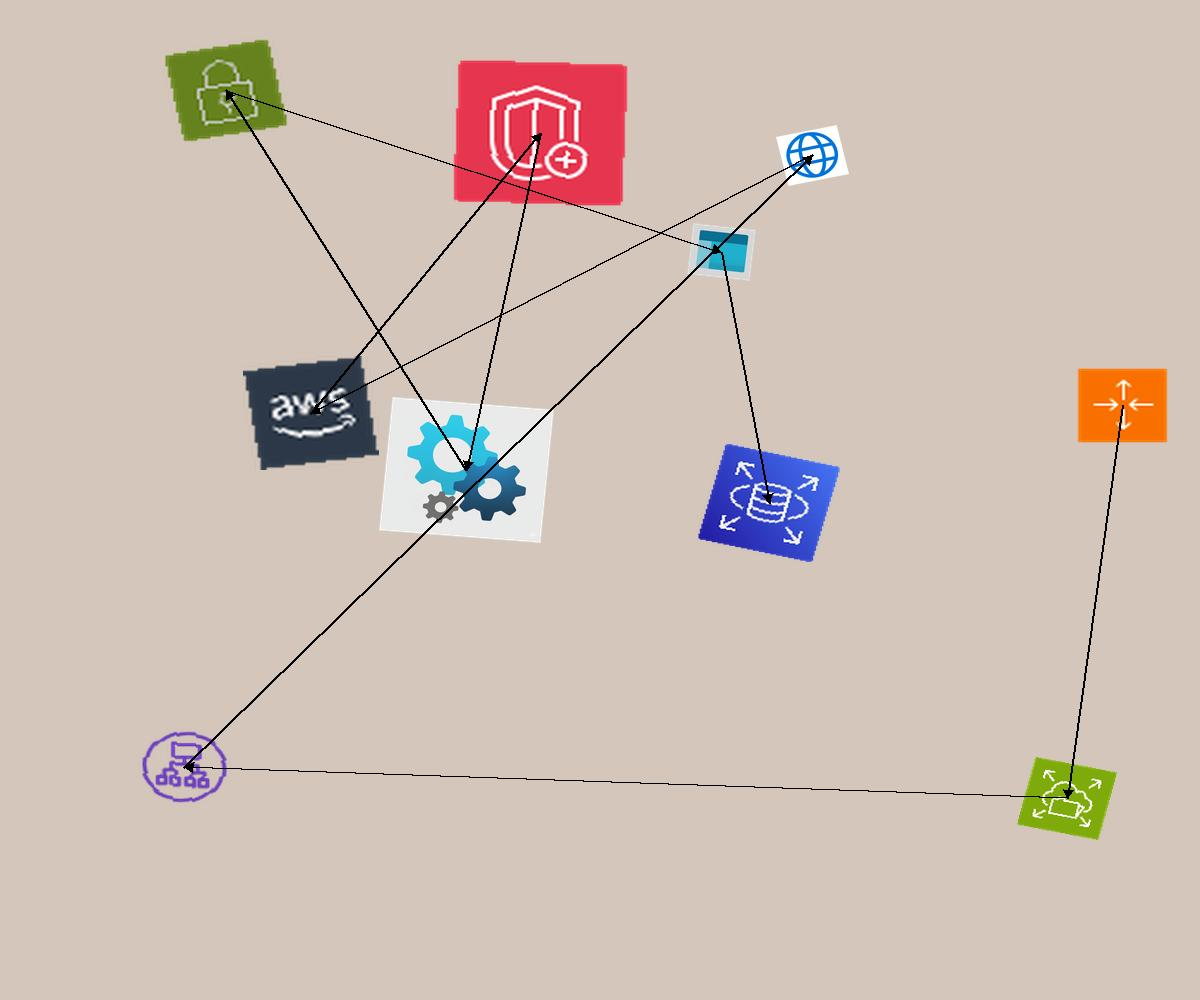AWS-Cloud-logo: (243, 356, 379, 470)
AWS-EFS: (1017, 757, 1117, 840)
AWS-Public-subnet: (163, 38, 289, 143)
AWS-RDS: (697, 443, 841, 563)
AWS-Res_Elastic-Load-Balancing_Application-Load-Balancer: (133, 724, 236, 810)
AWS-Scaling-group: (1076, 367, 1169, 444)
AWS-Shield: (452, 59, 629, 207)
Azure_api: (379, 397, 554, 543)
Azure_http: (776, 125, 849, 186)
Azure_management-portal: (687, 223, 756, 281)
